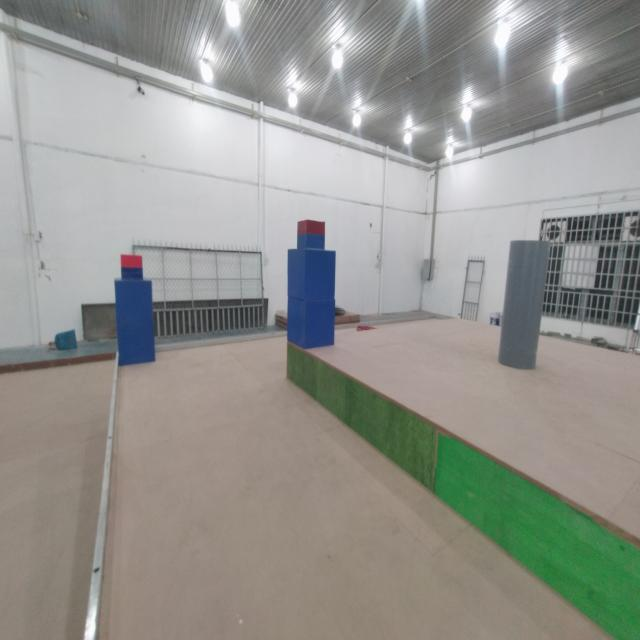earth_block: (284, 248, 338, 298), (287, 298, 335, 347), (115, 320, 157, 363), (115, 279, 153, 322)
sky_block: (294, 215, 328, 249), (120, 252, 144, 280)
